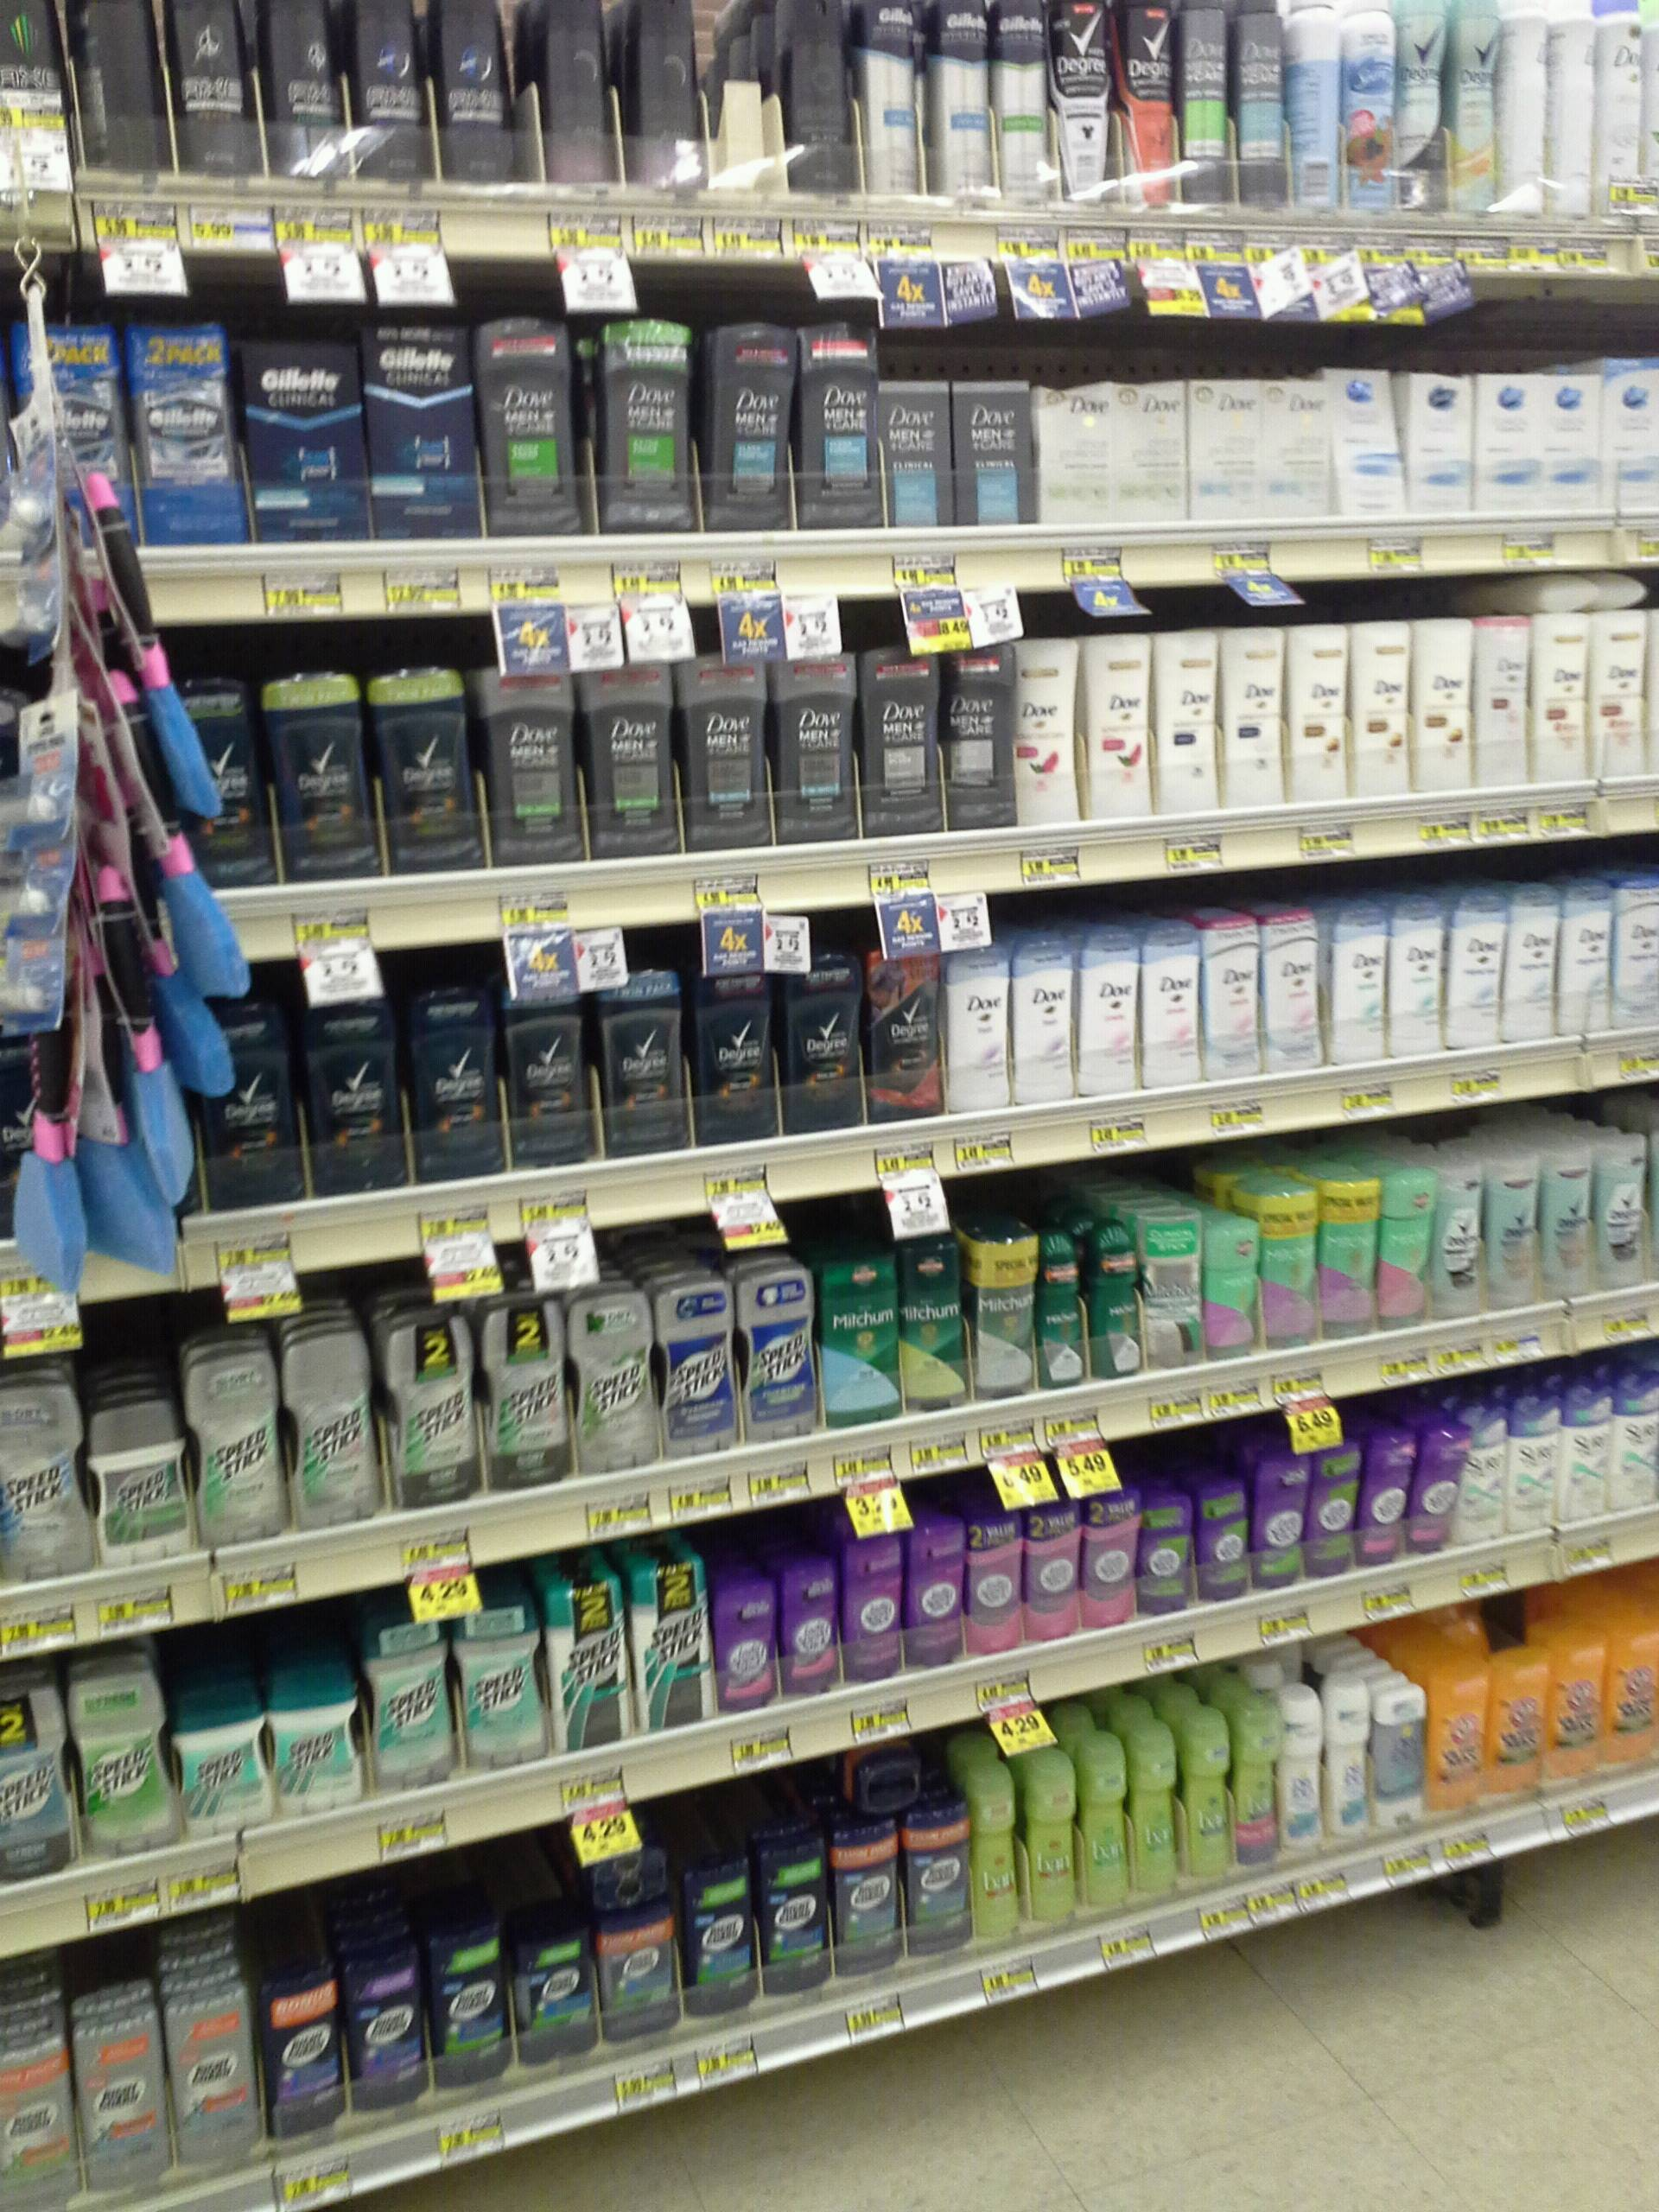product: (124, 319, 251, 549), (579, 305, 699, 538), (362, 324, 481, 536), (249, 326, 361, 545), (260, 674, 376, 881), (469, 662, 580, 876), (671, 648, 777, 860), (186, 1015, 300, 1214), (702, 314, 796, 535), (59, 2, 171, 188), (169, 676, 263, 894), (488, 305, 577, 535), (582, 648, 674, 867), (380, 1313, 479, 1514), (300, 1003, 396, 1211), (396, 995, 500, 1184), (376, 664, 465, 881), (279, 1339, 375, 1538), (502, 979, 594, 1184), (0, 1383, 96, 1580), (594, 977, 697, 1160), (66, 1674, 167, 1858), (777, 643, 866, 852), (195, 1339, 279, 1561), (162, 1984, 256, 2179), (525, 5, 619, 200), (166, 1683, 267, 1858), (481, 1303, 575, 1489), (777, 5, 863, 209), (769, 953, 864, 1134), (345, 1940, 434, 2135), (795, 314, 873, 533), (9, 1118, 112, 1285), (620, 2, 709, 195), (258, 2, 350, 186), (430, 5, 521, 192), (451, 1604, 554, 1766), (814, 1244, 904, 1426), (368, 1609, 450, 1811), (94, 1404, 195, 1564), (171, 2, 258, 186), (577, 1285, 653, 1491), (866, 641, 945, 836), (653, 1282, 739, 1458), (68, 2022, 160, 2184), (861, 5, 934, 209), (260, 1977, 347, 2148), (624, 1564, 714, 1726), (267, 1662, 364, 1811), (699, 954, 769, 1158), (946, 631, 1016, 834), (352, 2, 429, 186), (1014, 629, 1084, 829), (739, 1259, 810, 1454), (1152, 625, 1222, 822), (945, 374, 1032, 529), (1084, 629, 1154, 822), (511, 1921, 592, 2083), (1056, 0, 1121, 206), (1223, 624, 1291, 815), (866, 941, 936, 1125), (1103, 383, 1192, 524), (1401, 0, 1460, 207), (558, 1573, 624, 1757), (1291, 617, 1352, 817), (873, 369, 950, 528), (967, 1214, 1030, 1406), (938, 9, 999, 204), (1288, 2, 1345, 207), (1072, 932, 1141, 1101), (999, 5, 1058, 204), (1319, 1162, 1385, 1339), (1413, 611, 1474, 801), (1387, 887, 1452, 1066), (591, 1921, 687, 2041), (904, 1233, 965, 1421), (570, 1797, 669, 1912), (1119, 3, 1175, 207), (941, 953, 1007, 1123), (1422, 1653, 1492, 1815), (1176, 0, 1232, 202), (831, 1829, 910, 1972), (1199, 918, 1265, 1087), (434, 1939, 509, 2087), (763, 1834, 829, 2001), (843, 1524, 908, 1695), (688, 1862, 762, 2012), (1324, 897, 1389, 1066), (1192, 374, 1265, 523), (1265, 900, 1324, 1083), (1009, 941, 1072, 1113), (1595, 14, 1649, 212), (1075, 1723, 1129, 1921), (1354, 618, 1412, 805), (1182, 1696, 1236, 1893), (1473, 611, 1532, 791), (1143, 1207, 1204, 1381), (1033, 383, 1107, 528), (1532, 611, 1591, 789), (1335, 369, 1406, 516), (1349, 9, 1401, 207), (1591, 608, 1650, 782), (1236, 12, 1288, 209), (908, 1512, 972, 1670), (1143, 918, 1199, 1101), (1502, 9, 1551, 211), (1202, 1205, 1265, 1362), (1018, 1757, 1077, 1923), (1030, 1221, 1084, 1402), (908, 1808, 974, 1954), (1265, 1177, 1317, 1362), (1084, 1219, 1143, 1381), (1408, 368, 1474, 510), (1452, 885, 1507, 1052), (1431, 1163, 1490, 1320), (1473, 371, 1539, 510), (1131, 1723, 1182, 1904), (1265, 374, 1330, 516), (718, 1571, 777, 1724), (1084, 1480, 1138, 1648), (1598, 1139, 1652, 1305), (1249, 1440, 1307, 1594), (1553, 12, 1596, 214), (1025, 1500, 1084, 1648), (967, 1500, 1021, 1662), (1509, 883, 1563, 1045), (1561, 873, 1614, 1036), (1305, 1435, 1361, 1588), (1366, 1683, 1422, 1836), (777, 1568, 843, 1696), (1603, 354, 1659, 505), (1283, 1674, 1331, 1846), (1537, 371, 1598, 509), (1544, 1155, 1600, 1305), (2, 768, 75, 881), (1138, 1487, 1199, 1622), (1603, 1615, 1659, 1761), (1384, 1162, 1432, 1329), (1234, 1693, 1281, 1865), (1553, 1618, 1603, 1778), (1490, 1157, 1540, 1315), (1497, 1641, 1549, 1792), (1464, 5, 1502, 211), (824, 1733, 929, 1808), (978, 1757, 1019, 1940), (1511, 1397, 1561, 1547), (1614, 871, 1659, 1033), (2, 448, 61, 571), (1199, 1479, 1253, 1604), (1359, 1435, 1412, 1564), (1419, 1420, 1467, 1555), (1561, 1397, 1614, 1522), (1330, 1672, 1366, 1839), (1617, 1381, 1659, 1517), (1467, 1416, 1509, 1548), (5, 885, 78, 960), (5, 974, 63, 1049), (9, 594, 70, 655)
